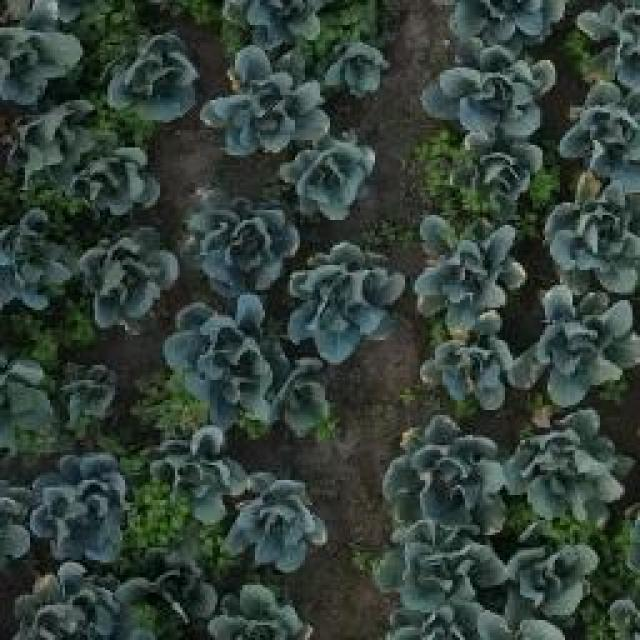cabbage: (167, 294, 310, 433), (382, 416, 506, 540), (508, 408, 632, 530), (519, 286, 640, 404), (284, 235, 400, 358), (377, 520, 508, 624), (200, 46, 331, 148), (422, 48, 557, 145), (181, 185, 298, 294), (417, 212, 526, 322), (542, 170, 640, 288), (31, 450, 129, 563), (498, 519, 602, 620), (418, 306, 516, 412), (142, 422, 244, 522), (224, 471, 324, 572), (75, 228, 178, 322), (278, 136, 384, 218), (115, 557, 218, 640), (66, 137, 170, 218), (103, 30, 198, 117), (0, 0, 82, 100), (0, 206, 75, 314), (42, 346, 129, 434), (18, 560, 112, 640), (561, 76, 640, 170), (456, 130, 548, 210), (325, 39, 393, 99)
